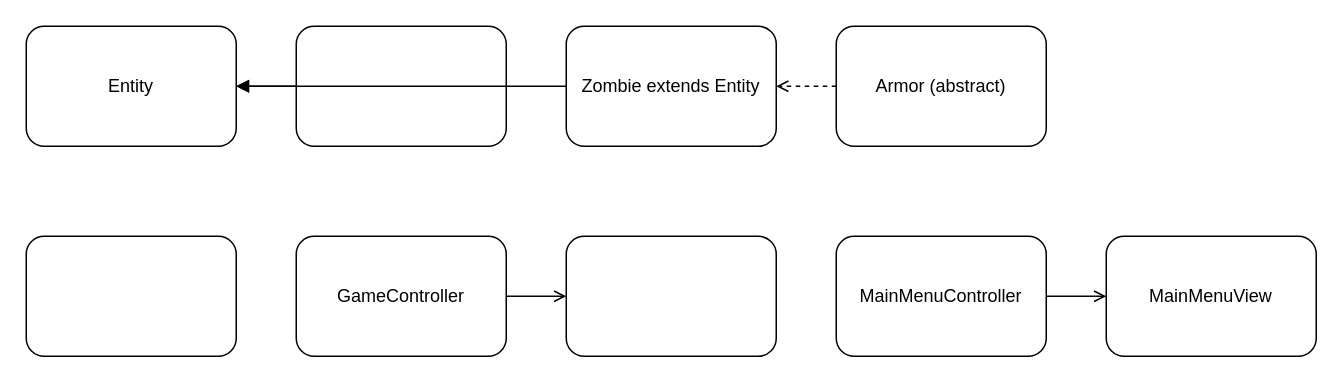
Image size: 1343x383. Some labels were removed from this diagram. Each missing label, with the box of its shape:
GameView: (565, 235, 776, 356)
Plant extends Entity: (295, 25, 506, 146)
Player: (25, 235, 236, 356)
